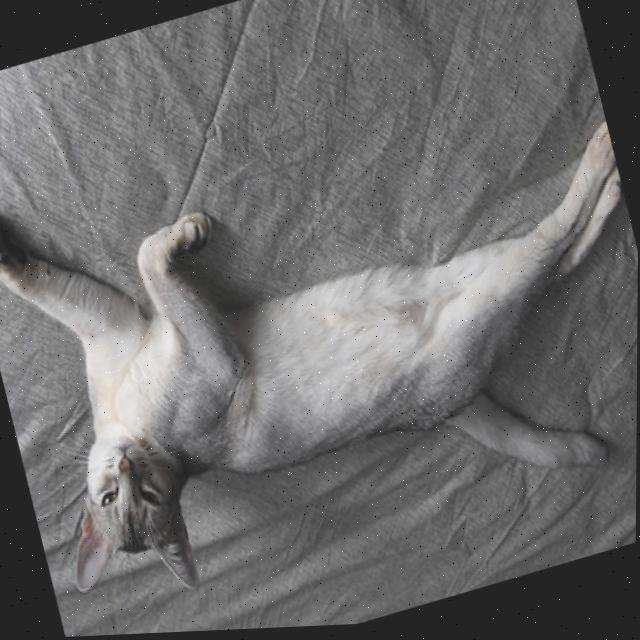Abyssinian: (0, 21, 640, 638)
